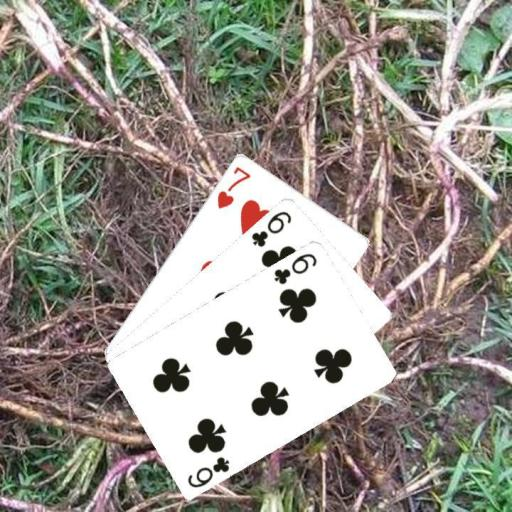6C: (248, 207, 293, 248), (271, 249, 319, 286), (184, 453, 231, 489)
7H: (214, 163, 253, 210)
